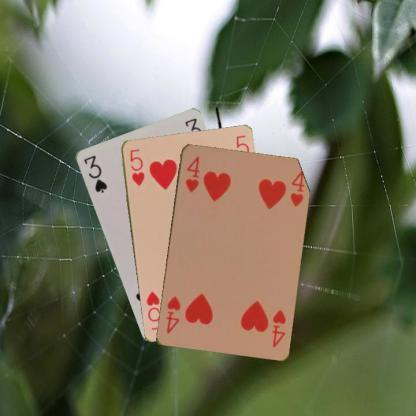3s: (81, 152, 109, 194)
4h: (183, 153, 202, 194), (269, 307, 287, 348)
5h: (127, 146, 146, 187)
